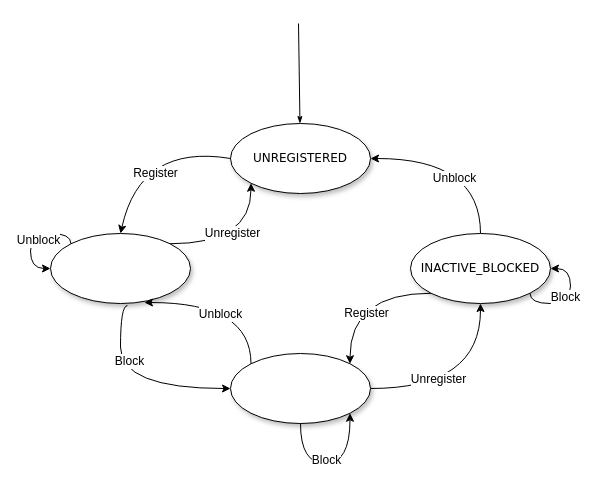
The diagram is 597 pixels wide and 484 high, and some of its shapes have lost their labels. Each missing label, with the centre of its shape:
"ACTIVE" belongs at (x=121, y=269).
"BLOCKED" belongs at (x=301, y=389).
